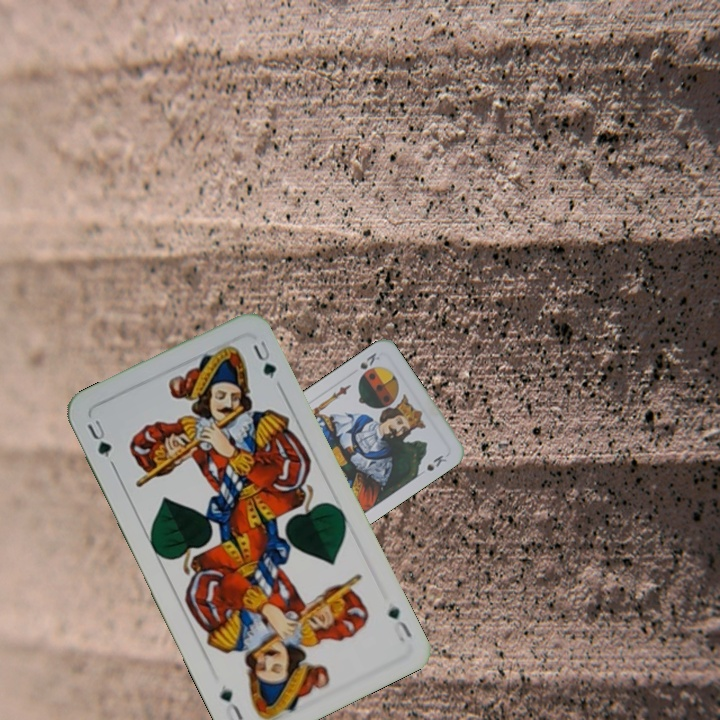GU: (82, 415, 117, 469), (383, 601, 414, 646)
SK: (356, 348, 383, 372)
